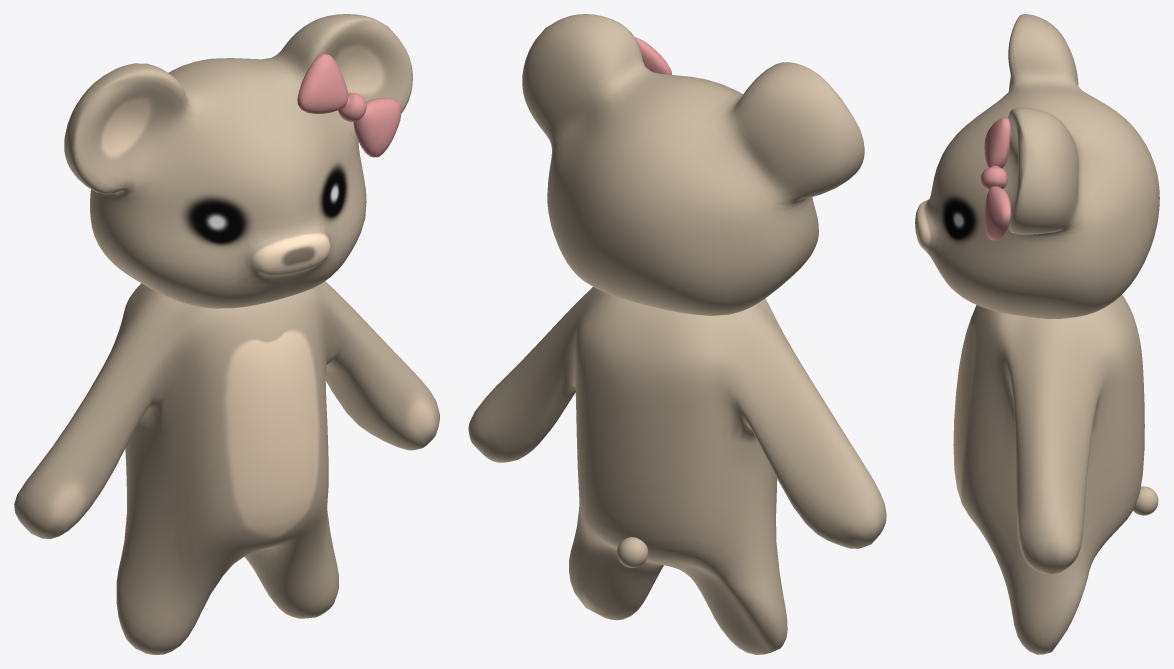
The model's file is mamabear2.fbx.
3 views of the same model, side by side, from view 1: azimuth 30°, elevation 25°; view 2: azimuth 150°, elevation 25°; view 3: azimuth 270°, elevation 25° (orthographic). The views are drawn at different scales.
Parts seen in each view (by area): view 1: Roundcube.013, head 2.007, bow.003; view 2: Roundcube.013, head 2.007, Roundcube.014, bow.003; view 3: Roundcube.013, head 2.007, bow.003, Roundcube.014.
Boxes of the visible parts, <box> form: Roundcube.013: <box>14,281,439,654</box>; head 2.007: <box>64,14,412,308</box>; bow.003: <box>297,53,401,157</box>; Roundcube.013: <box>468,287,886,654</box>; head 2.007: <box>522,14,864,315</box>; Roundcube.014: <box>617,537,648,567</box>; bow.003: <box>635,37,671,74</box>; Roundcube.013: <box>953,295,1144,654</box>; head 2.007: <box>915,14,1159,318</box>; bow.003: <box>981,118,1011,240</box>; Roundcube.014: <box>1133,486,1158,515</box>.
Size of the model in its own units: 116 by 160 by 64.32.
Materials: 4 (3 with a texture image).
